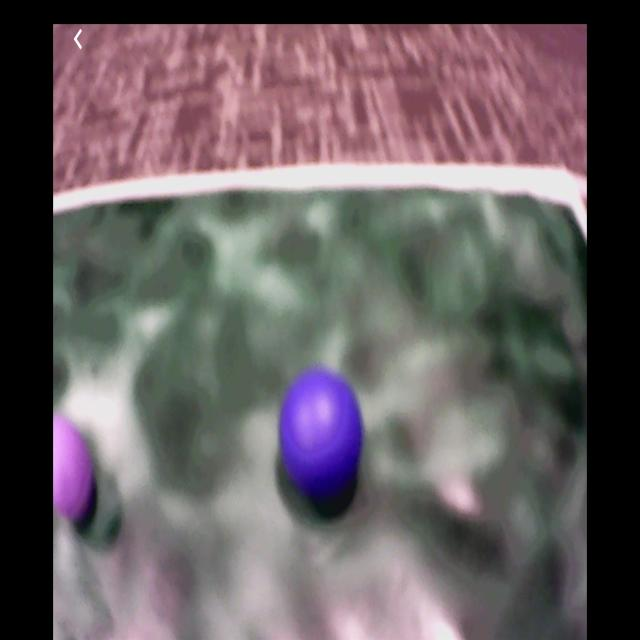ball: (280, 369, 364, 498), (55, 416, 94, 524)
